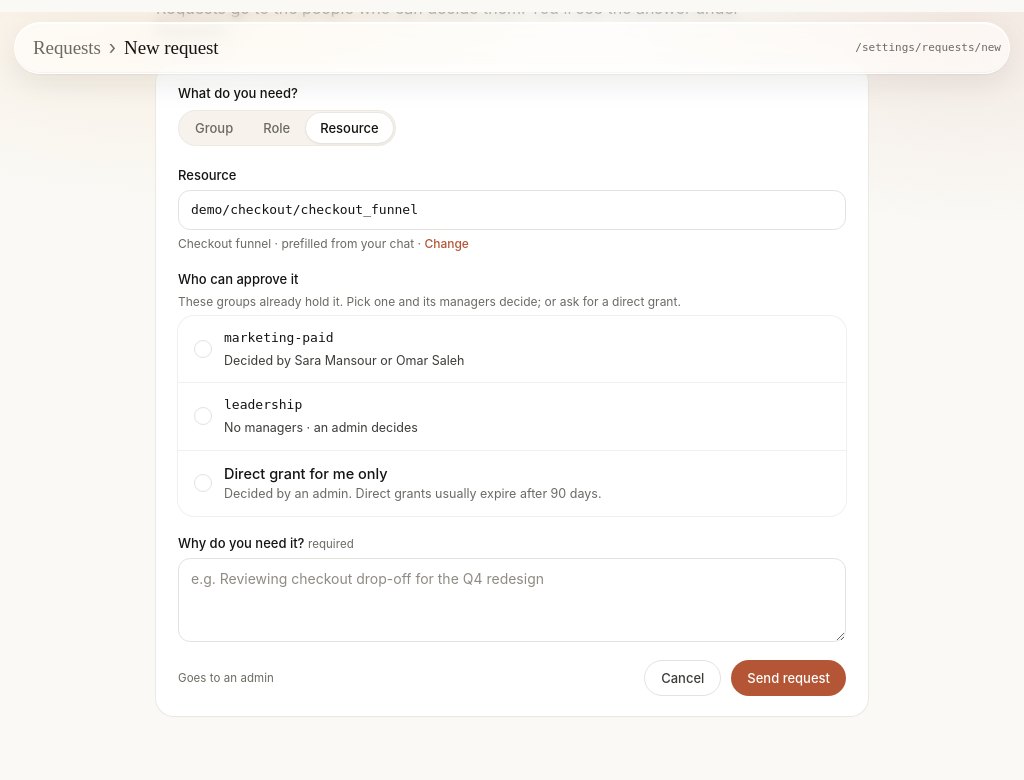
NewRequestPage / RequestForm › validates the choice and the note before sending, as the backend would
(page scrolled)
Expected: the element named "Who can approve it" is shown, [178,316,846,516]
What coordinates should you click on to do the following:
click the button "Send request"
I would click on:
 (789, 678)
Its box is [731,660,846,696].
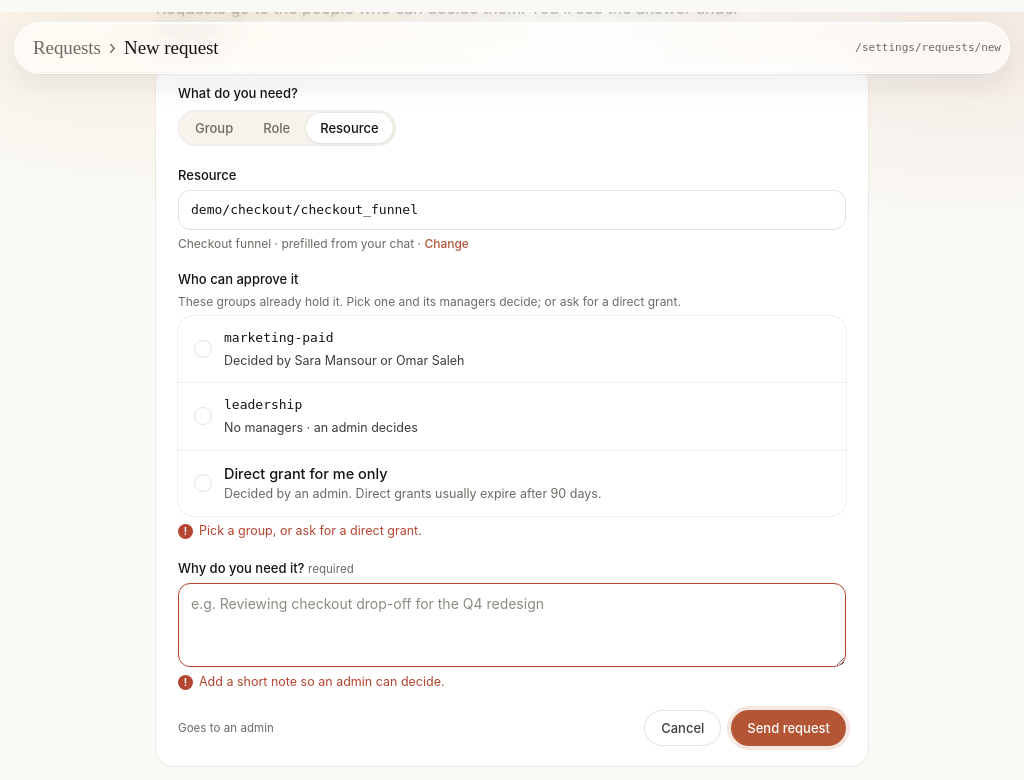
Expected: the text "Pick a group, or ask for a direct grant." is shown, [199,523,422,538]
Expected: the text "Add a short note so an admin can decide." is shown, [199,674,444,689]
